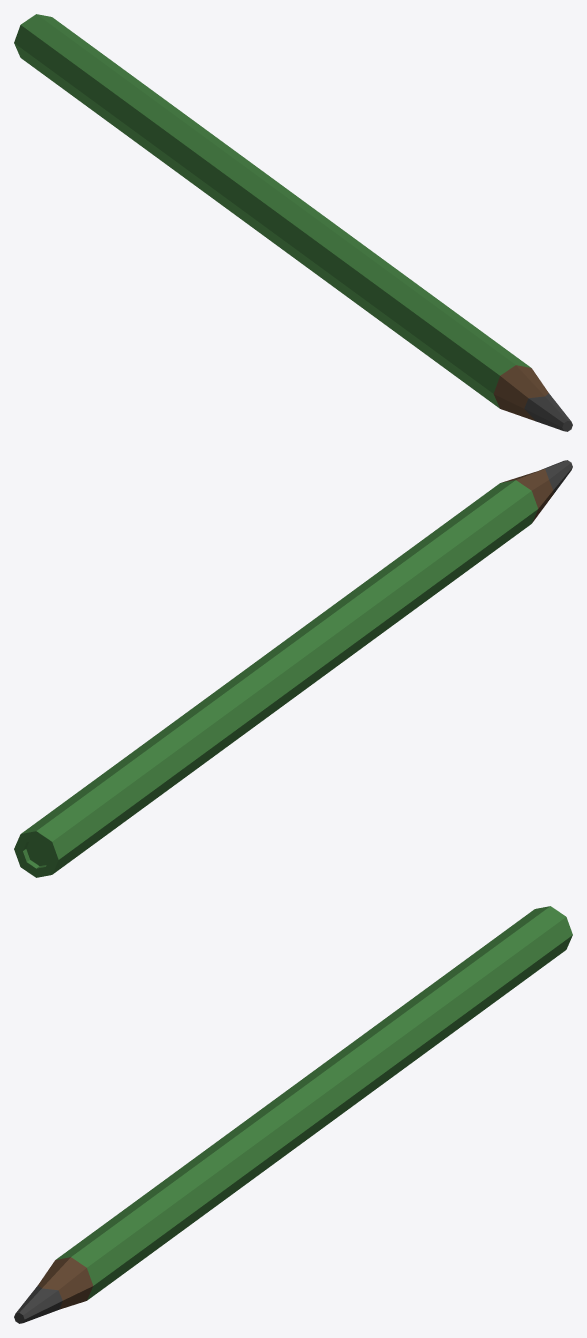
Rendered from Crayon.fbx.
3 renders of one model, top to bottom at view 1: azimuth 30°, elevation 25°; view 2: azimuth 150°, elevation 25°; view 3: azimuth 330°, elevation 25°, orthographic.
Parts seen in each view (by area): view 1: Crayon; view 2: Crayon; view 3: Crayon.
Part boxes in pixels (bbox=[...]): Crayon: bbox=[14, 14, 572, 431]; Crayon: bbox=[14, 460, 572, 877]; Crayon: bbox=[14, 906, 572, 1323].
Size of what is drawn, in the model's own units: 0.7 by 0.7 by 14.4.
